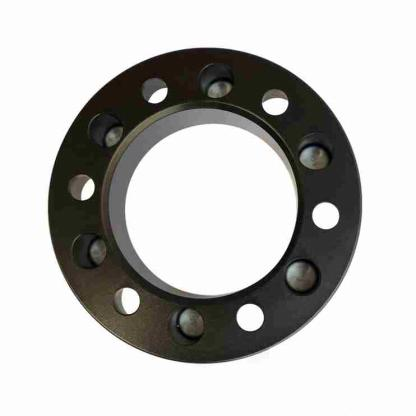FOD: (42, 43, 367, 370)
